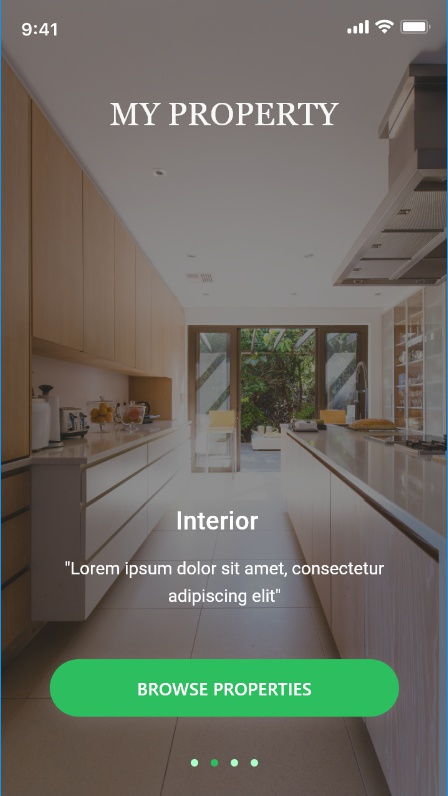BackgroundImage: (1, 1, 448, 796)
PageIndicator: (190, 757, 260, 769)
Text: (65, 560, 385, 607), (109, 102, 340, 128), (177, 510, 259, 532)
TextButton: (50, 658, 399, 717)
UpperTaskBar: (22, 20, 432, 37)
